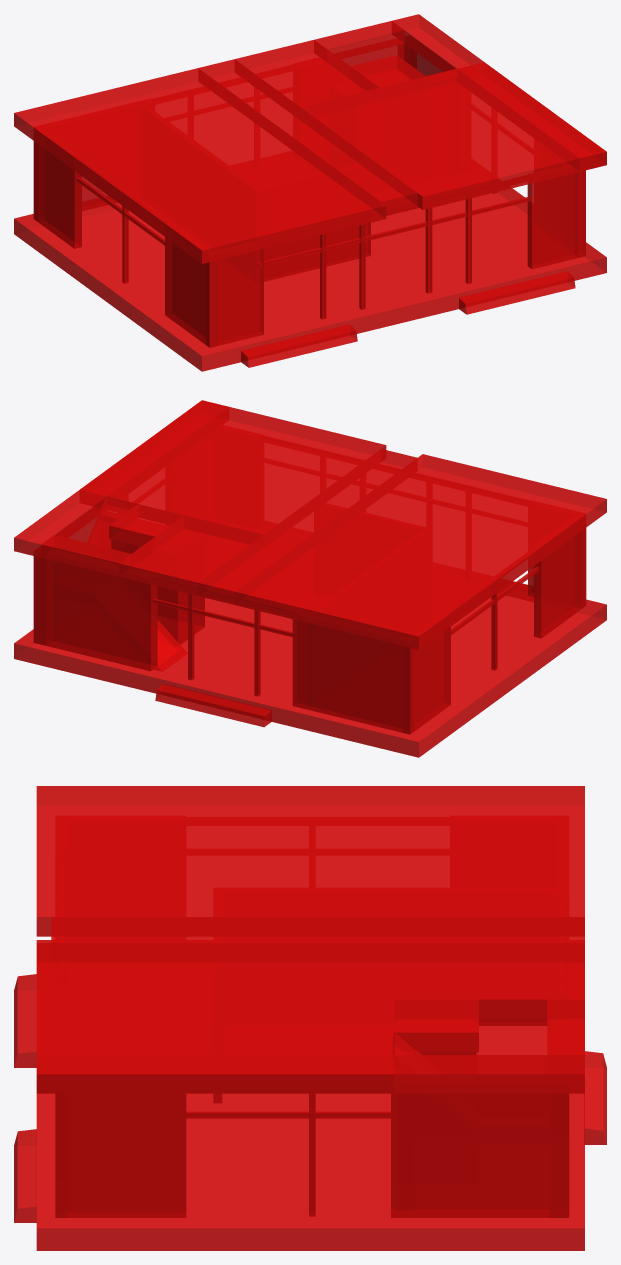
File: SM_Bld_HighRise_Medium_01_Interior_Base_01_Collision.fbx
3 views of the same model, one above another, from view 1: azimuth 30°, elevation 25°; view 2: azimuth 150°, elevation 25°; view 3: azimuth 270°, elevation 25° (orthographic). The views are drawn at different scales.
Parts seen in each view (by area): view 1: SM_Bld_HighRise_Medium_01_Interior_Base_01_Collision; view 2: SM_Bld_HighRise_Medium_01_Interior_Base_01_Collision; view 3: SM_Bld_HighRise_Medium_01_Interior_Base_01_Collision.
Part boxes in pixels (left/top/right/bottom): SM_Bld_HighRise_Medium_01_Interior_Base_01_Collision: left=14, top=14, right=606, bottom=371; SM_Bld_HighRise_Medium_01_Interior_Base_01_Collision: left=14, top=400, right=606, bottom=757; SM_Bld_HighRise_Medium_01_Interior_Base_01_Collision: left=14, top=786, right=606, bottom=1250.
Size of the model in its own units: 1404 by 403 by 1221.
